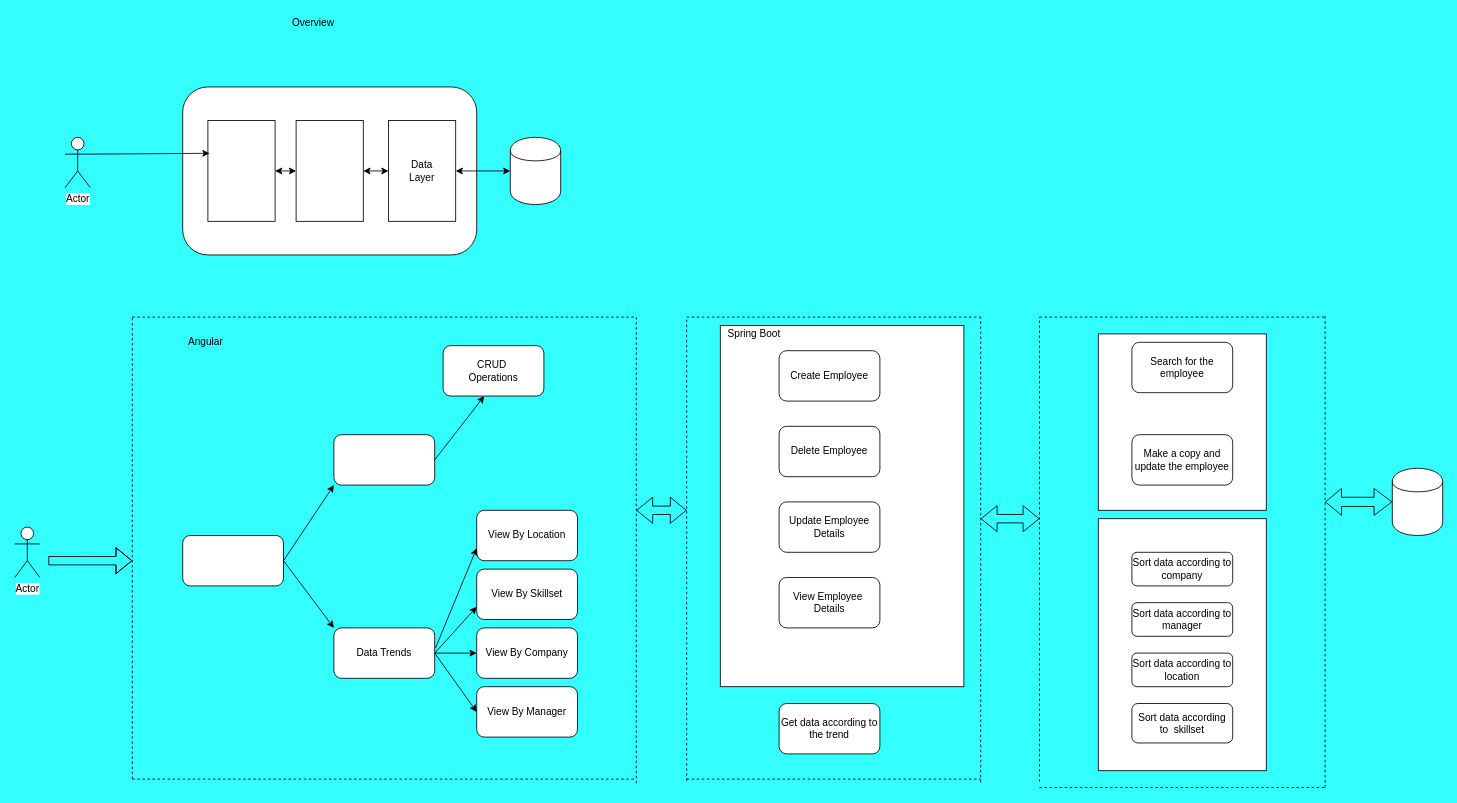
Image size: 1457x803. Some labels were removed from this diagram. Each missing label, with the centre of its shape:
Application Layer: the point at 329,170
DB: the point at 1417,501
Employee Management: the point at 384,459
Home: the point at 233,560
Presentation Layer: the point at 241,170
